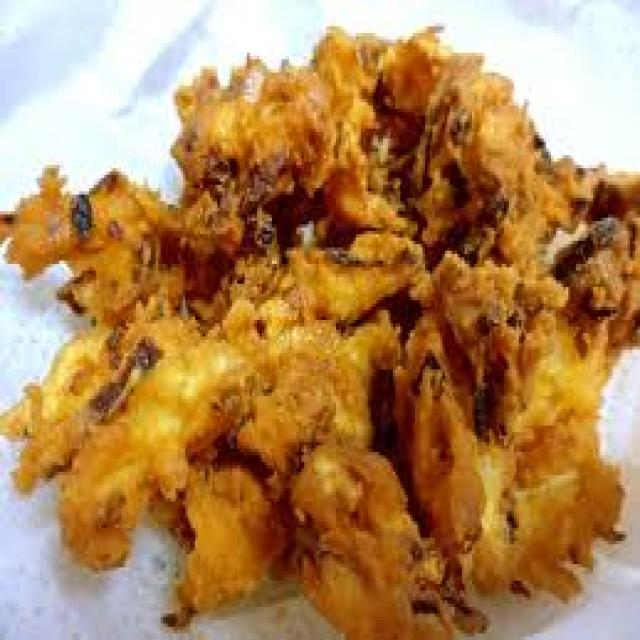BAJI: (1, 27, 638, 637)
